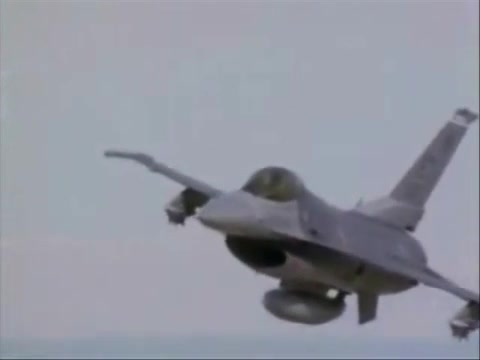aeroplane: (104, 106, 480, 343)
